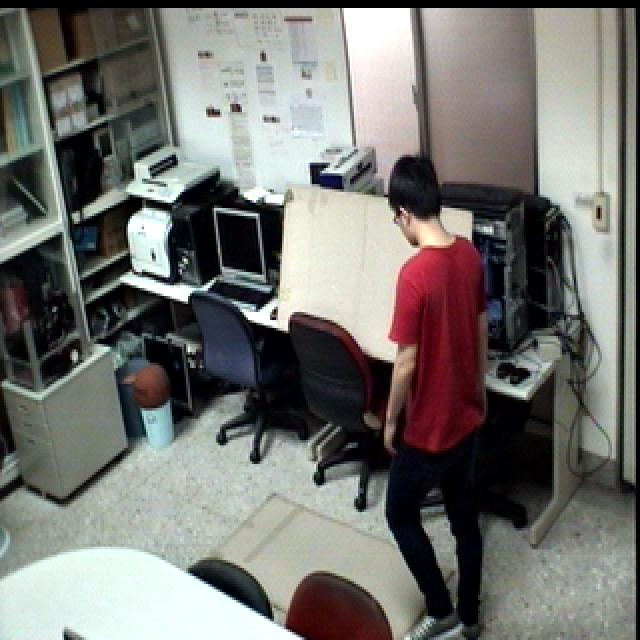stand: (362, 145, 497, 640)
